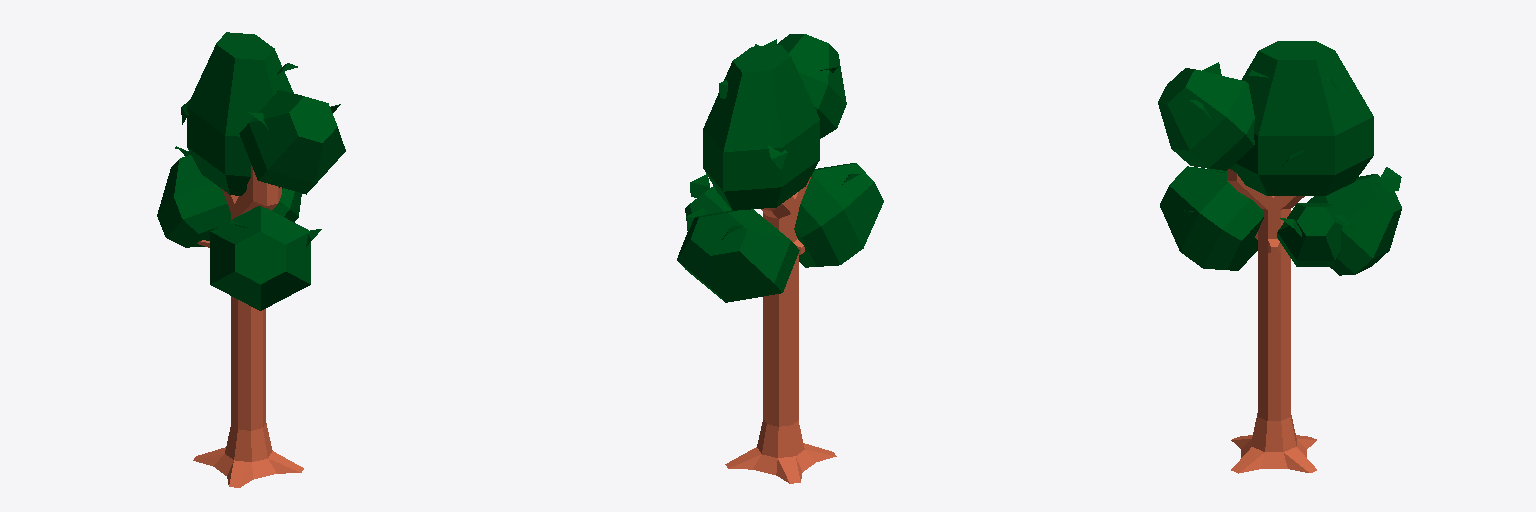
Rendered from tree.obj.
3 views of the same model, side by side, from view 1: azimuth 30°, elevation 25°; view 2: azimuth 150°, elevation 25°; view 3: azimuth 270°, elevation 25° (orthographic).
Visible parts, largest first — view 1: mergedBlocks; view 2: mergedBlocks; view 3: mergedBlocks.
Boxes of the visible parts, <box> form: mergedBlocks: <box>157,32,345,487</box>; mergedBlocks: <box>677,34,883,483</box>; mergedBlocks: <box>1158,41,1401,473</box>.
Bounding box in the file's own units: 1.8 × 4.96 × 2.69.